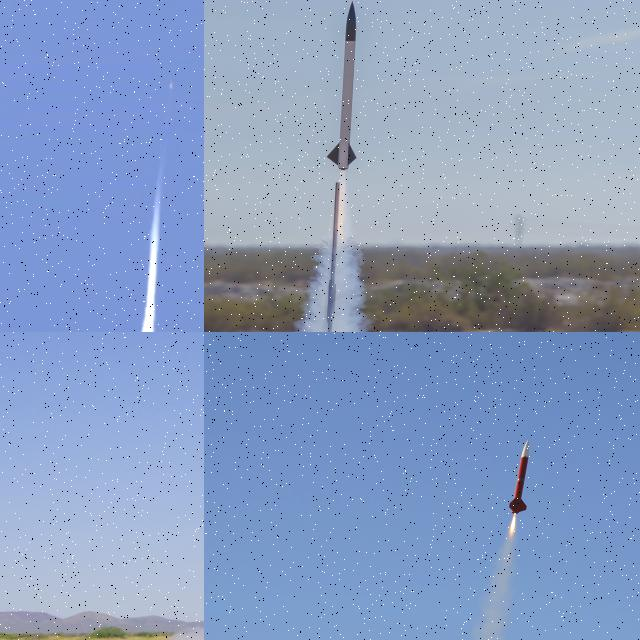Rocket: (327, 1, 358, 171), (508, 439, 530, 514), (170, 80, 172, 89)
